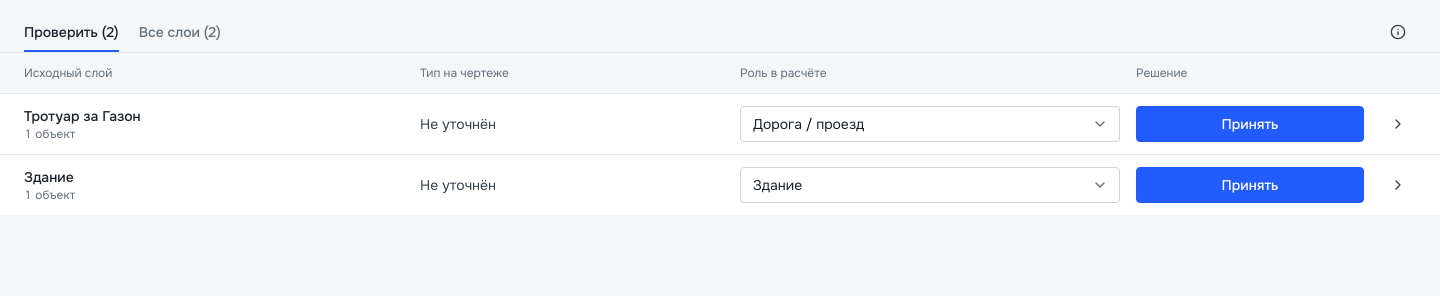
Test case: keeps the row and its controls in place when a disclosure is opened
The image size is (1440, 296).
Click the button named "Сведения о слое Тротуар за Газон" at x=1398, y=124, box top-left (1380, 106), bottom-right (1416, 142)
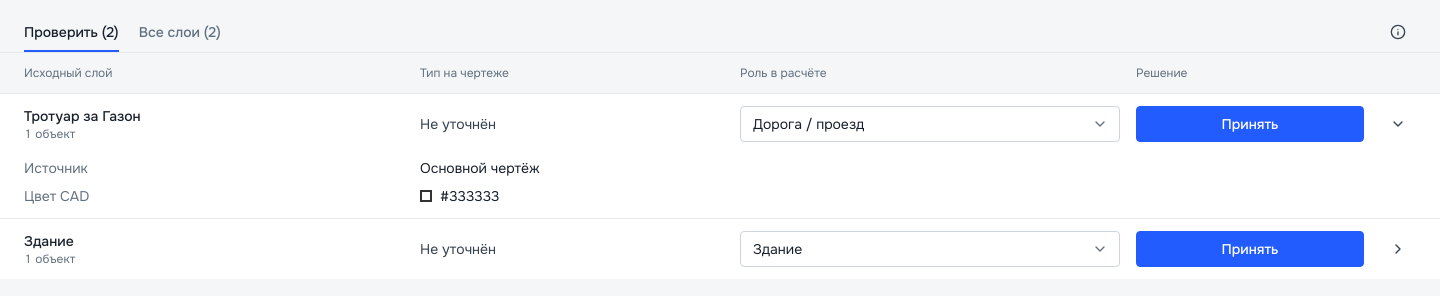
Expected: the dropdown named "Роль в расчёте Тротуар за Газон" is shown, top-left (740, 106), bottom-right (1120, 142)
Expected: the element named "Сведения о слое Тротуар за Газон" is shown, top-left (24, 159), bottom-right (540, 205)
